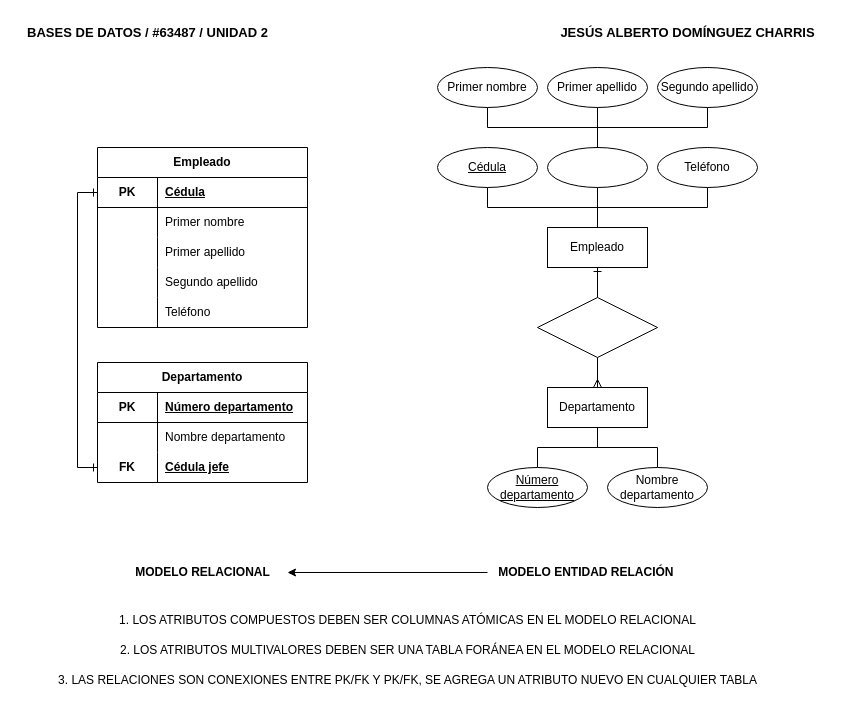
Image size: 844x712. Some labels were removed from this diagram. Here are the shapes that lost their labels. From the top down, the centre of each, then its label:
the point at 597,167: Nombre
the point at 597,327: pertenece a
